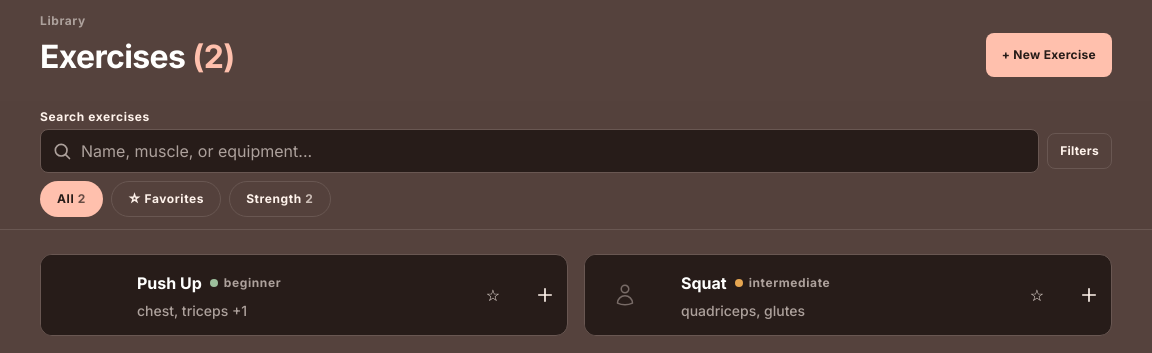
Test case: ExercisesPage favorites empty state › shows empty state when favorites filter is active with no favorites
Step 1. Click the tab "☆ Favorites" → (166, 199), box left=111, top=181, right=221, bottom=217
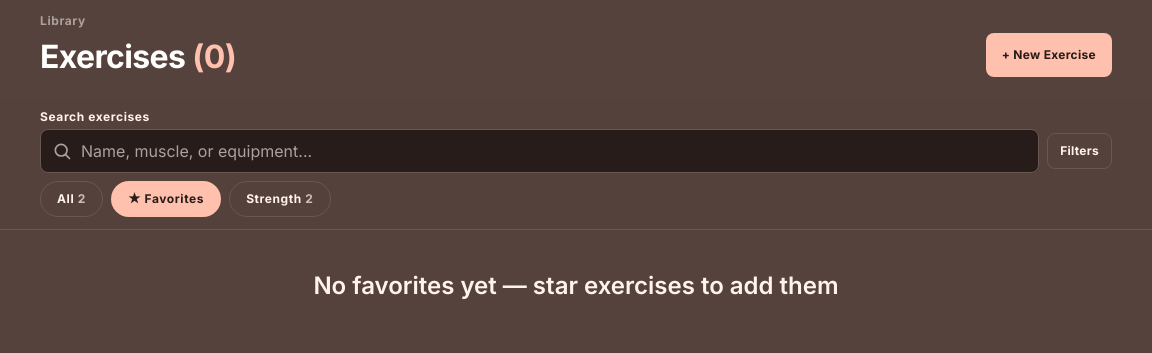
Check: the heading "No favorites yet — star exercises to add them" is shown, box left=313, top=270, right=839, bottom=302
